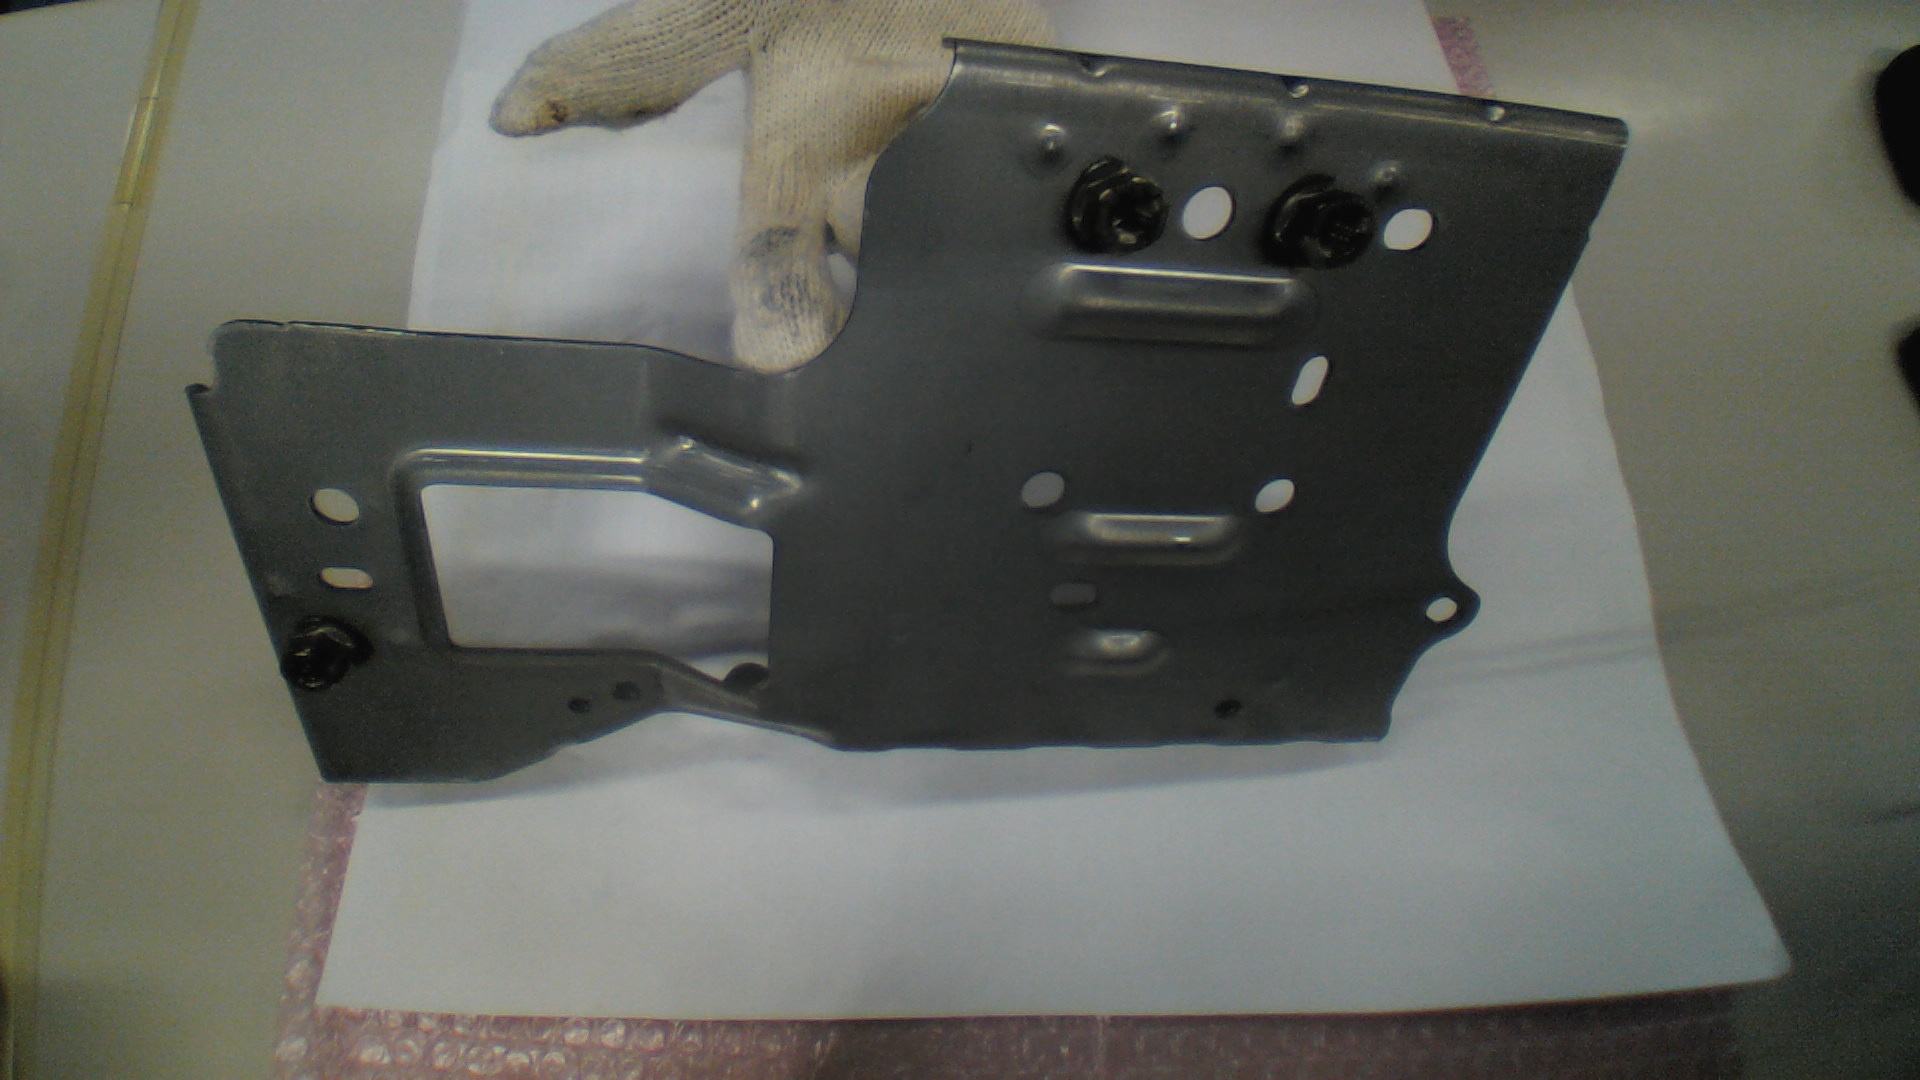dog: (1263, 174, 1375, 272), (1062, 161, 1168, 257), (280, 618, 375, 694)
